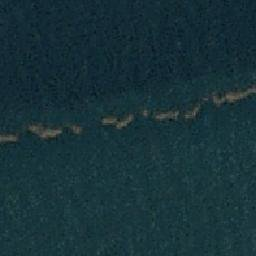debris: (210, 87, 256, 106), (30, 123, 62, 138), (153, 110, 181, 122), (1, 131, 22, 142), (98, 115, 117, 126), (118, 113, 134, 125), (67, 123, 85, 133), (182, 110, 196, 120), (139, 108, 149, 116), (201, 95, 209, 104)
